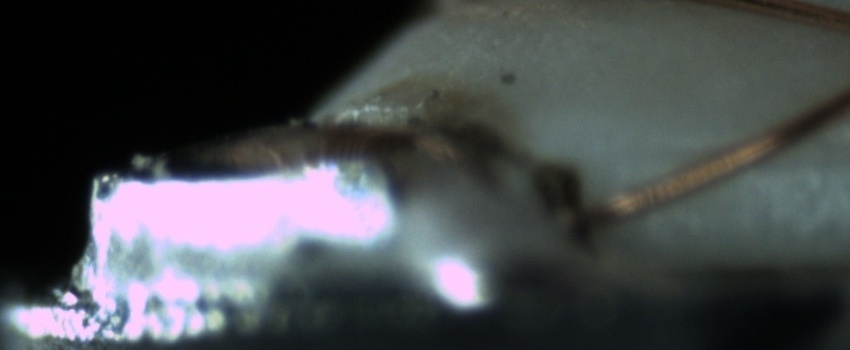DL: (639, 115, 849, 189)
